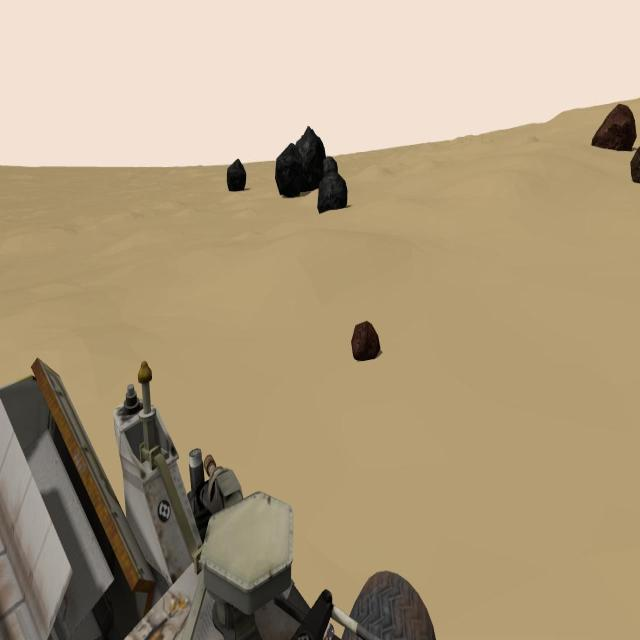rock: (592, 103, 636, 151), (297, 126, 326, 194), (276, 142, 302, 198), (318, 172, 347, 212), (352, 321, 380, 359), (227, 157, 246, 191), (322, 156, 339, 179), (631, 144, 640, 183)
